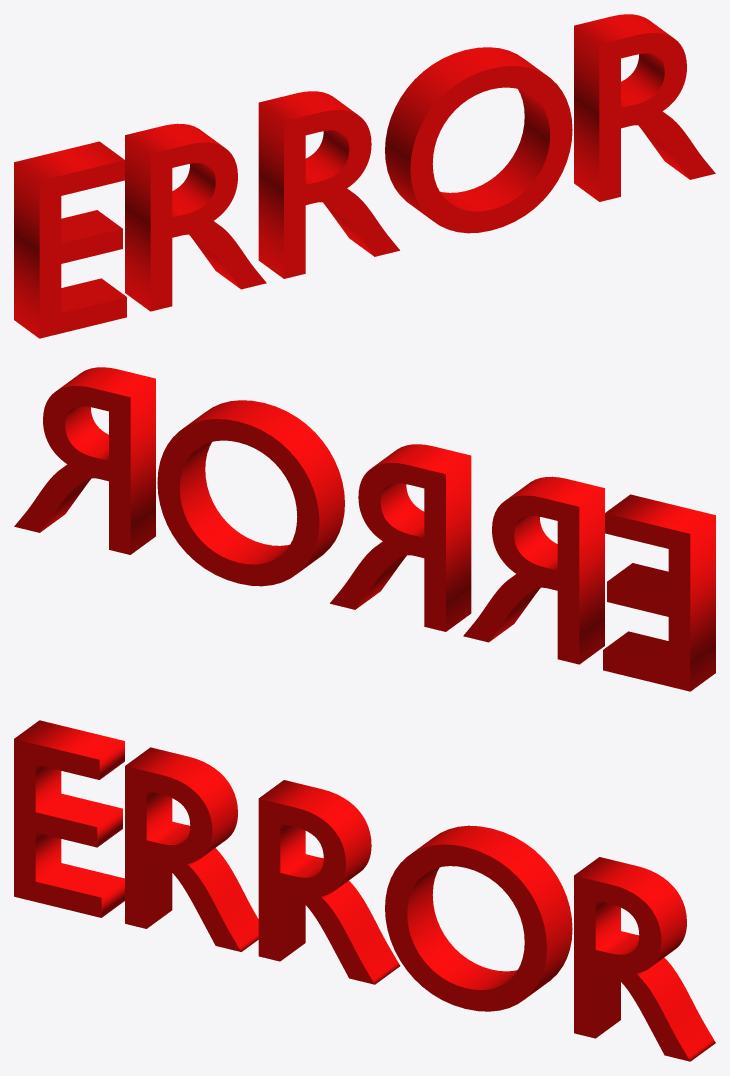
Rendered from Error.fbx.
3 views of the same model, one above another, from view 1: azimuth 30°, elevation 25°; view 2: azimuth 150°, elevation 25°; view 3: azimuth 330°, elevation 25° (orthographic).
Visible parts, largest first — view 1: Error; view 2: Error; view 3: Error.
Boxes of the visible parts, x1=… form: Error: x1=14, y1=14, x2=715, y2=338; Error: x1=14, y1=367, x2=715, y2=691; Error: x1=14, y1=720, x2=715, y2=1061.
Size of the model in its own units: 306 by 70 by 20.
